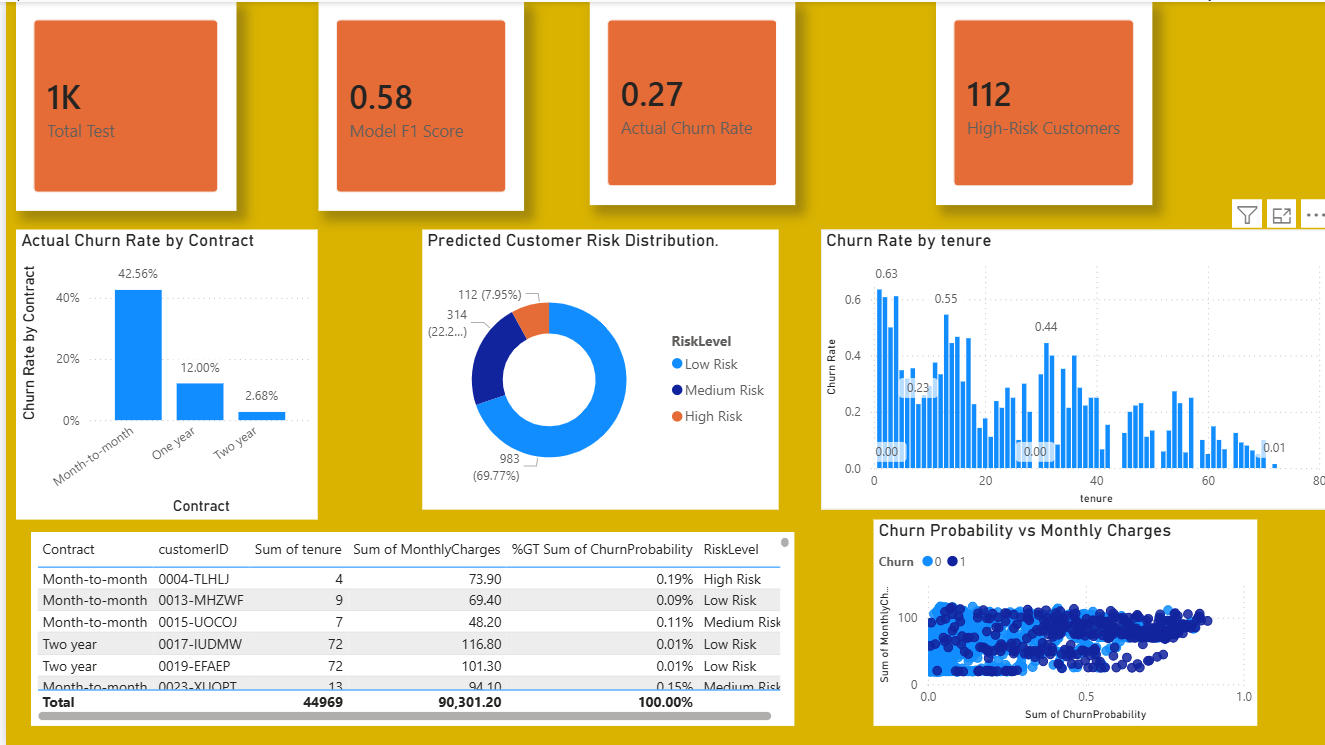

What the dashboard file says about the page in this screenshot:
{"tool":"powerbi","page":{"name":"Page 1","canvas":[1280,720],"ordinal":0},"visuals":[{"type":"cardVisual","fields":{"Data":["customer_churn_predictions.Total Test"]},"box":[10,0,212.9,201.4],"z":0},{"type":"cardVisual","fields":{"Data":["customer_churn_predictions.Actual Churn Rate"]},"box":[562.9,0,198.6,195.7],"z":1000},{"type":"cardVisual","fields":{"Data":["customer_churn_predictions.High-Risk Customers"]},"box":[897.1,0,208.6,195.7],"z":2000},{"type":"cardVisual","fields":{"Data":["customer_churn_predictions.Model F1 Score"]},"box":[301.4,0,198.6,201.4],"z":3000},{"type":"lineClusteredColumnComboChart","title":"Actual Churn Rate by Contract","fields":{"Category":["customer_churn_predictions.Contract"],"Y":["customer_churn_predictions.Churn Rate by Contract"]},"box":[10,220,291.4,280],"z":4000},{"type":"donutChart","title":"Predicted Customer Risk Distribution.","fields":{"Category":["customer_churn_predictions.RiskLevel"],"Y":["CountNonNull(customer_churn_predictions.customerID)"]},"box":[401.4,220,344.3,270],"z":5000},{"type":"tableEx","fields":{"Values":["customer_churn_predictions.Contract","customer_churn_predictions.customerID","Sum(customer_churn_predictions.tenure)","Sum(customer_churn_predictions.MonthlyCharges)","Sum(customer_churn_predictions.ChurnProbability)","customer_churn_predictions.RiskLevel"]},"box":[24.3,511.4,737.1,187.1],"z":6000},{"type":"lineClusteredColumnComboChart","fields":{"Category":["customer_churn_predictions.tenure"],"Y":["customer_churn_predictions.Churn Rate"]},"box":[786.6,219.6,493.4,270.2],"z":7000},{"type":"scatterChart","title":"Churn Probability vs Monthly Charges","fields":{"X":["Sum(customer_churn_predictions.ChurnProbability)"],"Y":["Sum(customer_churn_predictions.MonthlyCharges)"],"Series":["customer_churn_predictions.Churn"],"Category":["customer_churn_predictions.customerID"]},"box":[837.3,499.5,370.4,199.1],"z":8000}]}

Visuals, with their boxes in screenshot pixels (x1, y1, x2, y2), scaled from the page's 1280x720 canvas onto the 1325x745 screenshot:
cardVisual - customer_churn_predictions.Total Test: <region>10, 0, 231, 208</region>
cardVisual - customer_churn_predictions.Actual Churn Rate: <region>583, 0, 788, 202</region>
cardVisual - customer_churn_predictions.High-Risk Customers: <region>929, 0, 1145, 202</region>
cardVisual - customer_churn_predictions.Model F1 Score: <region>312, 0, 518, 208</region>
"Actual Churn Rate by Contract" lineClusteredColumnComboChart: <region>10, 228, 312, 517</region>
"Predicted Customer Risk Distribution." donutChart: <region>416, 228, 772, 507</region>
tableEx - customer_churn_predictions.Contract x customer_churn_predictions.customerID: <region>25, 529, 788, 723</region>
lineClusteredColumnComboChart - customer_churn_predictions.tenure x customer_churn_predictions.Churn Rate: <region>814, 227, 1324, 507</region>
"Churn Probability vs Monthly Charges" scatterChart: <region>867, 517, 1250, 723</region>
